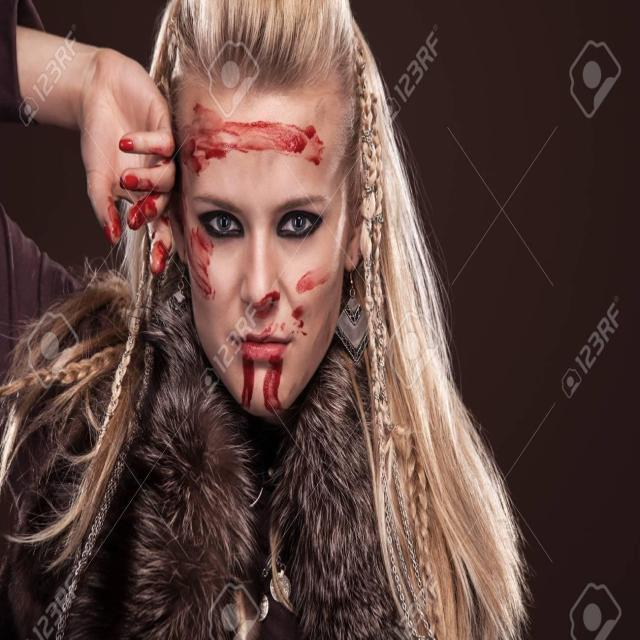flood: (80, 87, 347, 235), (223, 344, 292, 414), (258, 294, 289, 312)
